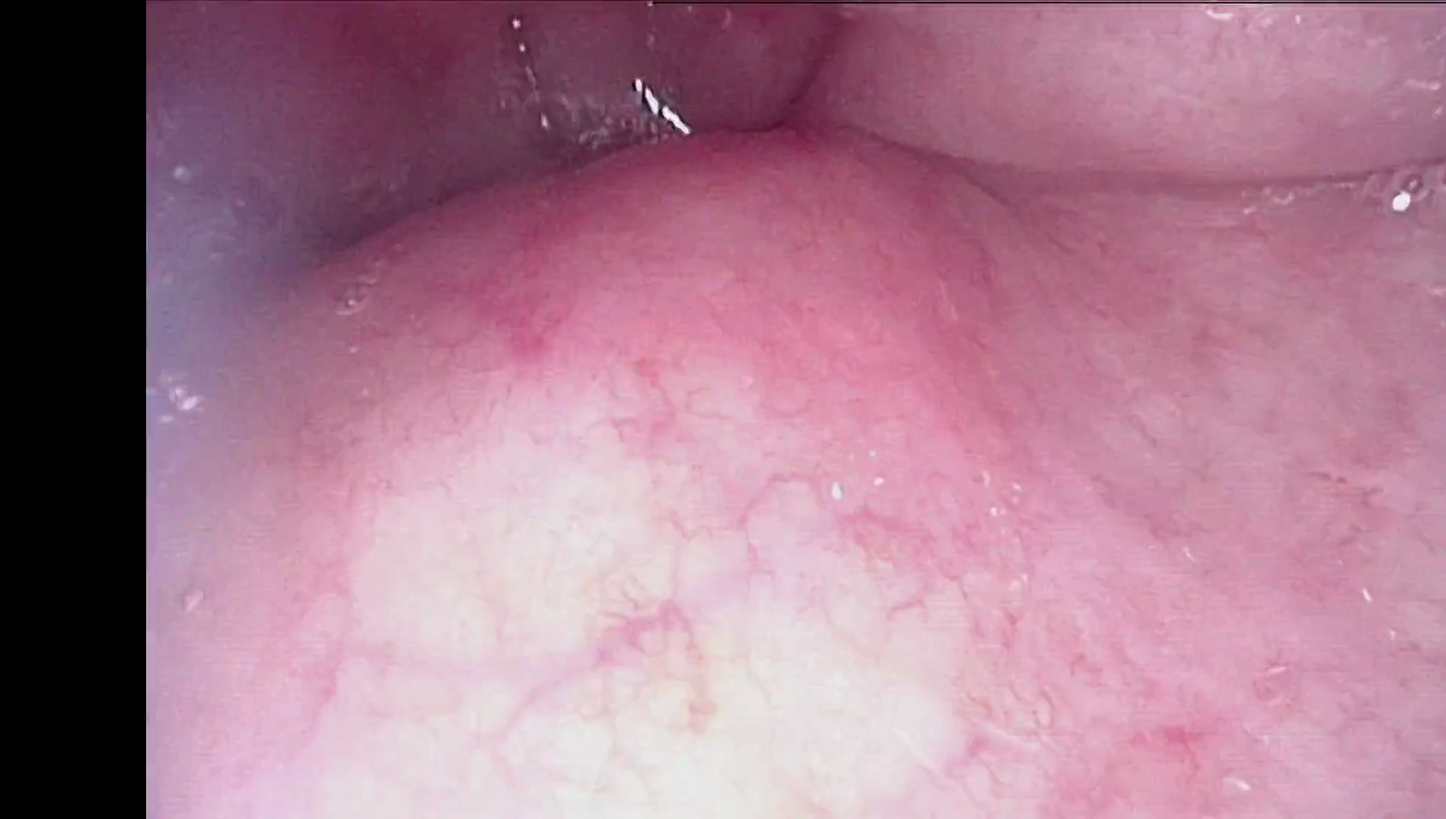close_wall: (285, 308, 1123, 819)
next: (221, 169, 404, 284)
